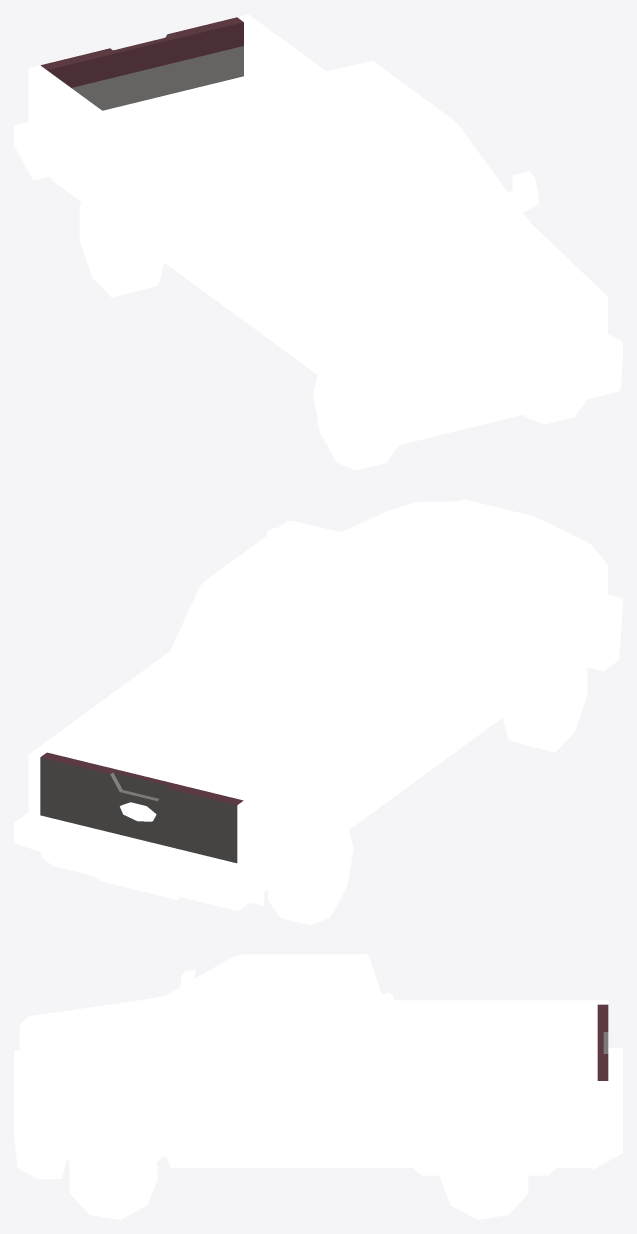
File: car-pickup-modern.glb
The picture shows the model from 3 angles, top to bottom: view 1: azimuth 30°, elevation 25°; view 2: azimuth 150°, elevation 25°; view 3: azimuth 270°, elevation 25°; orthographic projection. The views are drawn at different scales.
Parts seen in each view (by area): view 1: car-pickup-modern-base, car-pickup-modern-rear, car-pickup-modern-wheel_BR, car-pickup-modern-wheel_FR, car-pickup-modern-wheel_FL; view 2: car-pickup-modern-base, car-pickup-modern-rear, car-pickup-modern-wheel_FR, car-pickup-modern-wheel_BR; view 3: car-pickup-modern-base, car-pickup-modern-wheel_FL, car-pickup-modern-wheel_BL, car-pickup-modern-rear.
Boxes of the visible parts, x1,y1,x2,y2 form: car-pickup-modern-base: (14, 14, 622, 446); car-pickup-modern-rear: (40, 17, 243, 110); car-pickup-modern-wheel_BR: (79, 184, 163, 297); car-pickup-modern-wheel_FR: (313, 356, 398, 470); car-pickup-modern-wheel_FL: (524, 399, 586, 424); car-pickup-modern-base: (14, 499, 622, 910); car-pickup-modern-rear: (40, 752, 243, 863); car-pickup-modern-wheel_FR: (503, 637, 587, 752); car-pickup-modern-wheel_BR: (268, 813, 353, 925); car-pickup-modern-base: (14, 954, 622, 1178); car-pickup-modern-wheel_FL: (69, 1127, 157, 1219); car-pickup-modern-wheel_BL: (440, 1131, 528, 1219); car-pickup-modern-rear: (597, 1004, 609, 1080).
Bounding box in the file's own units: 2.32 × 2 × 5.7.
Materials: 3 (1 with a texture image).
